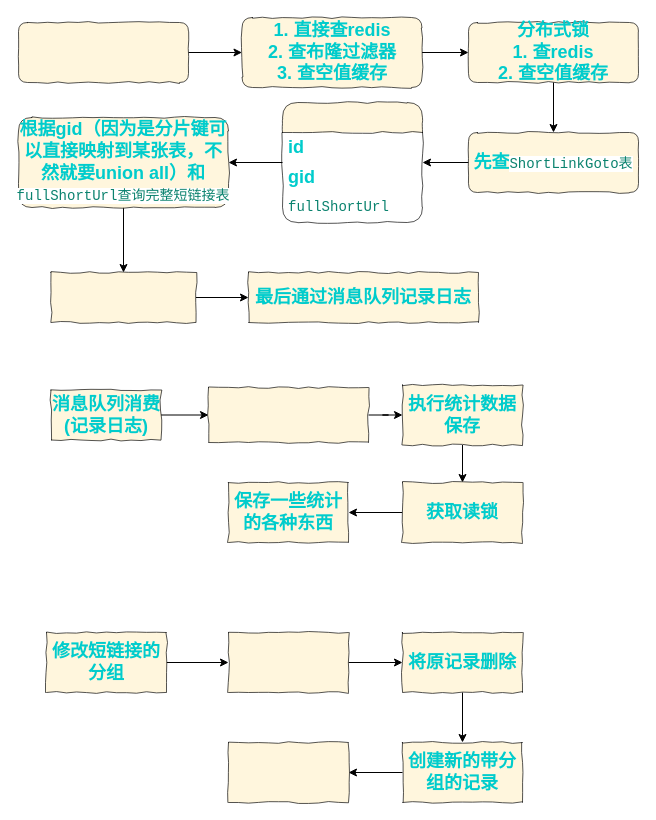
This 656x820 diagram has some shape labels left out. The box of each missing label's shape, as (x1, y1, x2, y2) in pixels:
ShortLinkGoto: (282, 102, 422, 222)
幂等性唯一id处理（redis处理）: (208, 386, 368, 442)
更新跳转关系表: (228, 742, 348, 802)
查到了写入缓存: (50, 272, 196, 322)
用户请求短链接: (18, 22, 188, 82)
获取写锁: (228, 632, 348, 692)
